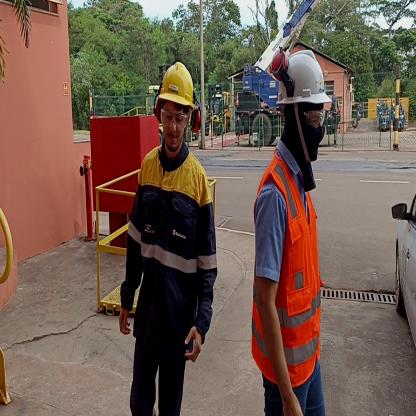Balaclava: (277, 107, 328, 170)
C_eletrica: (123, 148, 219, 363)
Capacete: (271, 47, 333, 107), (156, 62, 198, 108)
colete: (250, 153, 334, 389)
